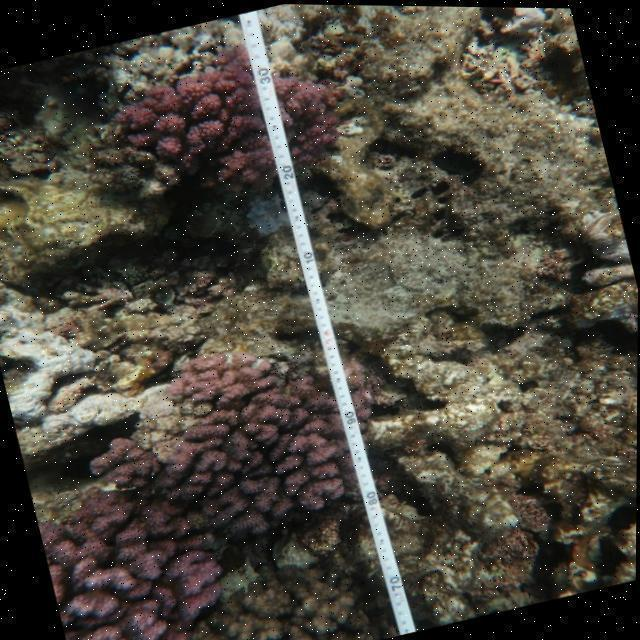Healthy Coral: (58, 314, 399, 574), (90, 23, 364, 227), (33, 463, 250, 640)
